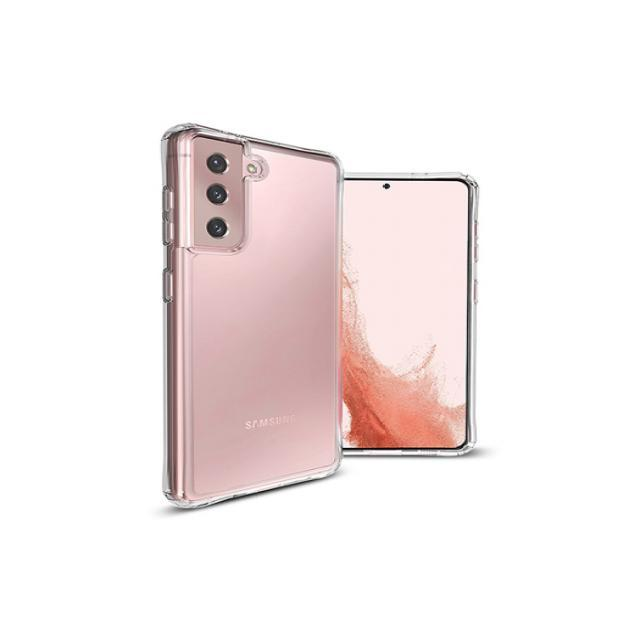phone: (158, 122, 342, 508)
